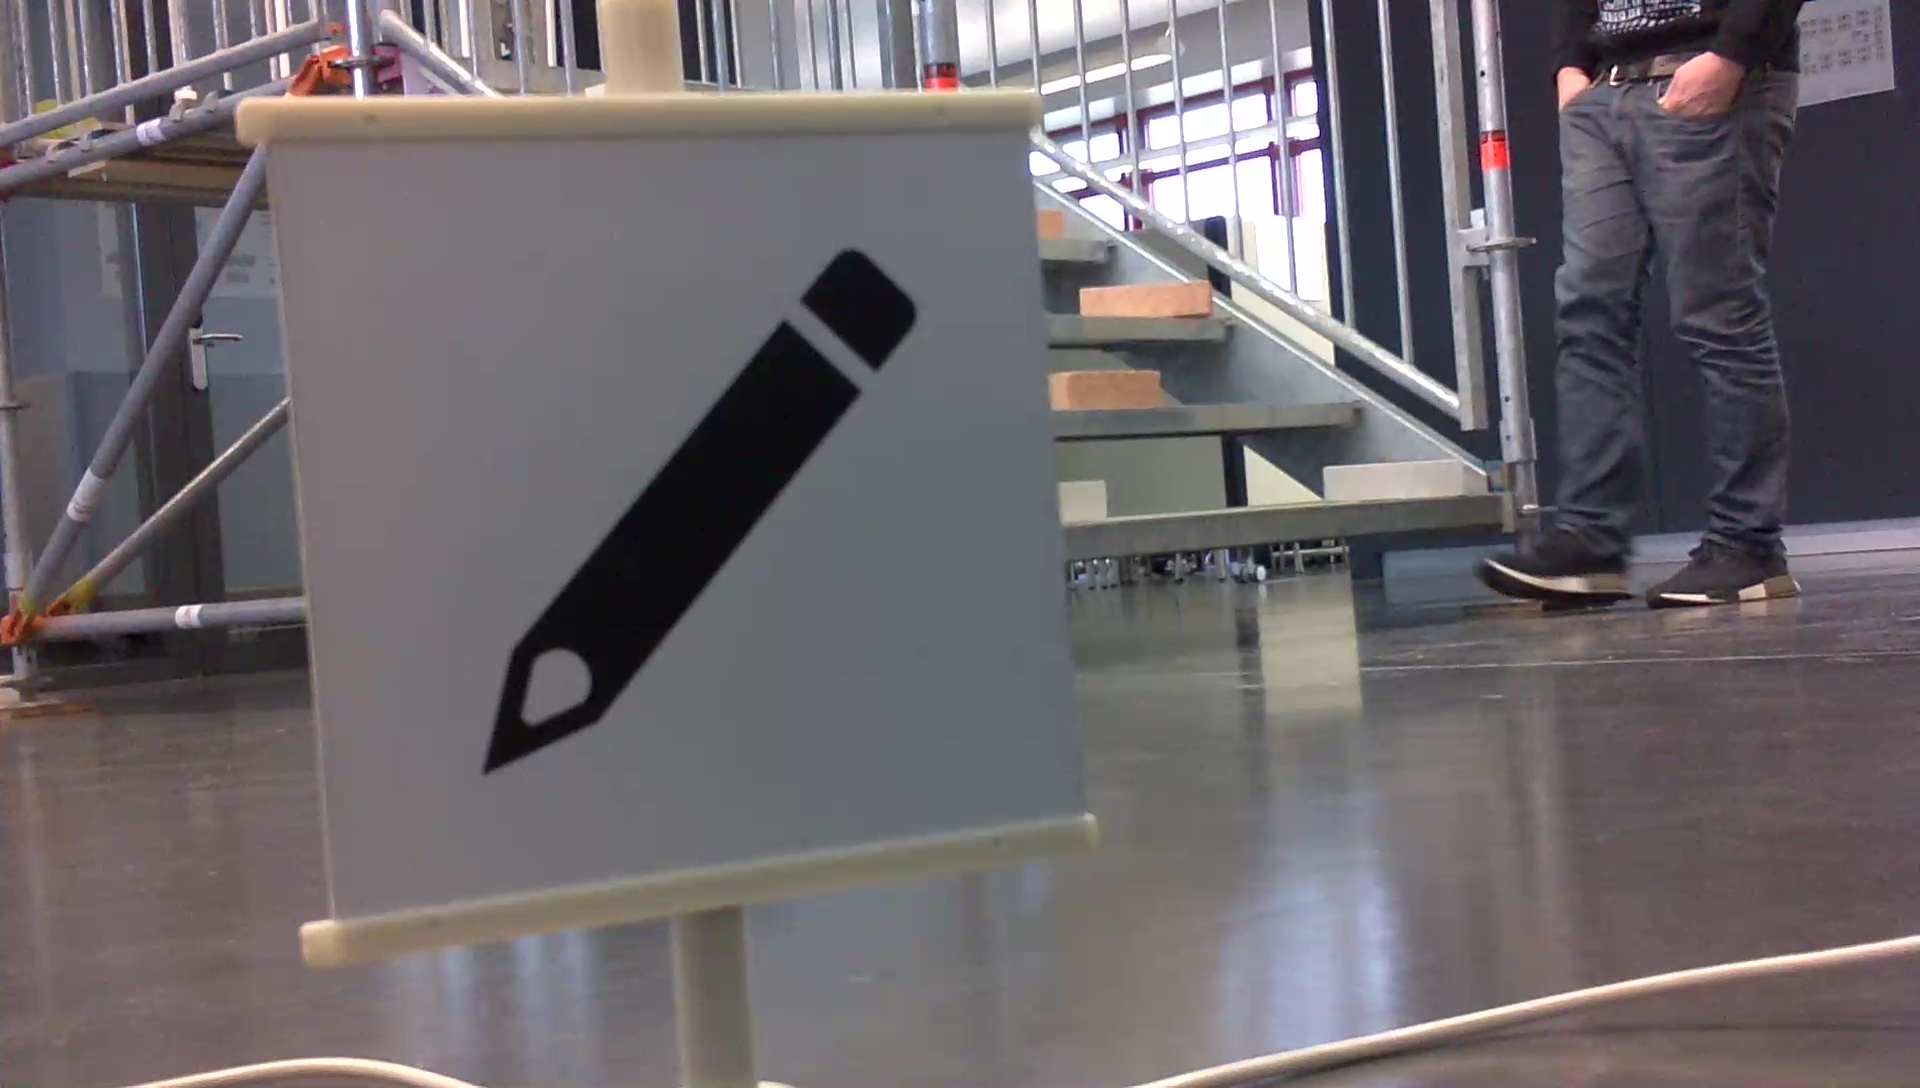brick: (1325, 458, 1457, 497), (1083, 281, 1211, 313), (1050, 371, 1159, 408), (1060, 479, 1102, 524), (1036, 207, 1063, 237)
edge: (1068, 491, 1502, 560), (1060, 402, 1364, 433), (1047, 313, 1234, 343), (1038, 237, 1117, 262)
pencil: (454, 233, 931, 783)
